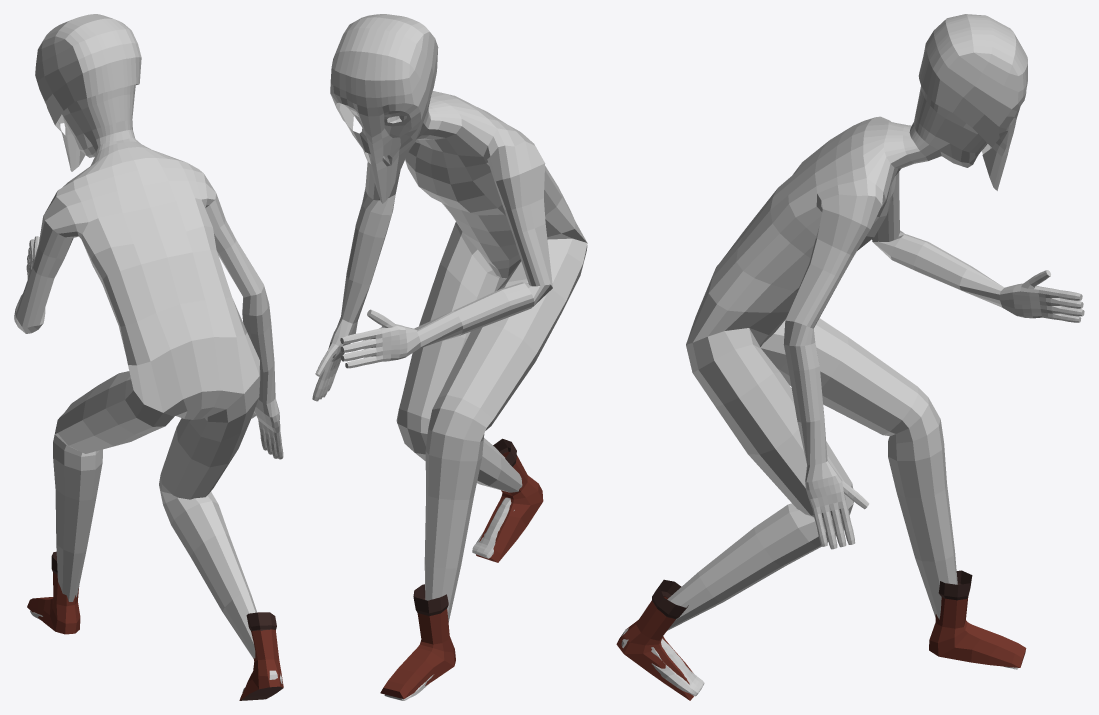
Rendered from saltoadelante_000144.obj.
3 renders of one model, left to right at view 1: azimuth 30°, elevation 25°; view 2: azimuth 150°, elevation 25°; view 3: azimuth 270°, elevation 25°, orthographic. The views are drawn at different scales.
Visible parts, largest first — view 1: Plane.002_Plane.001, Plane.003, Plane.004; view 2: Plane.002_Plane.001, Plane.004, Plane.003; view 3: Plane.002_Plane.001, Plane.004, Plane.003.
Part boxes in pixels (x1,y1,x2,y2): Plane.002_Plane.001: (14,14,283,692); Plane.003: (239,612,283,700); Plane.004: (27,551,80,634); Plane.002_Plane.001: (312,14,587,700); Plane.004: (380,584,455,698); Plane.003: (476,438,543,562); Plane.002_Plane.001: (621,14,1084,696); Plane.004: (929,570,1026,667); Plane.003: (616,579,693,700).
Size of the model in its own units: 2.34 by 5.66 by 3.65.
